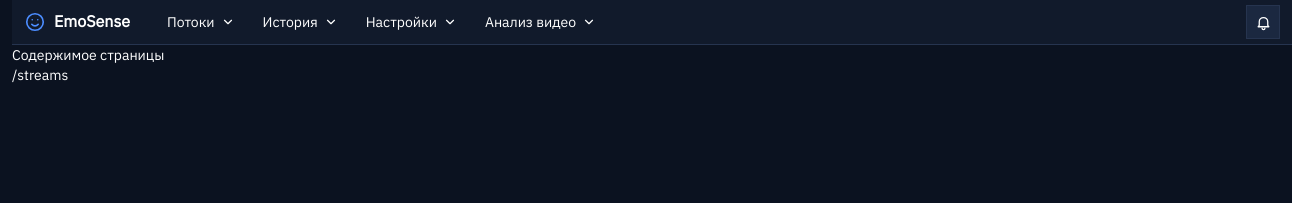
Test: Toolbar menus › opens a menu on click and closes it on a second click
Click the button "Потоки". click: click(201, 22)
box: [154,4,248,40]
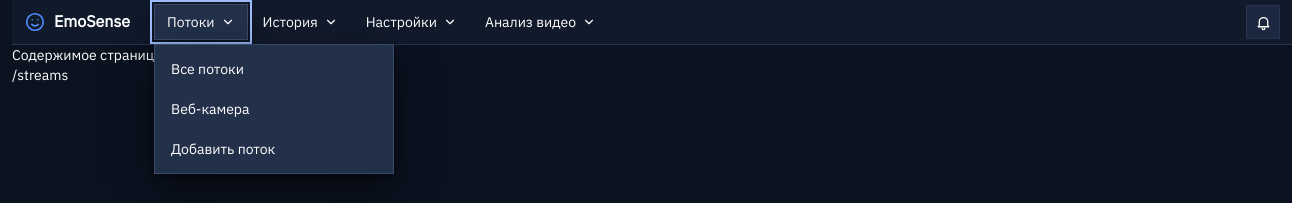
expect the button "Потоки" is expanded: met
expect the menu items read "Все потоки", "Веб-камера", "Добавить поток", in this order: met, box [159,49,389,89]; [159,89,389,129]; [159,129,389,169]
Click the button "Потоки". click: click(201, 22)
box: [154,4,248,40]
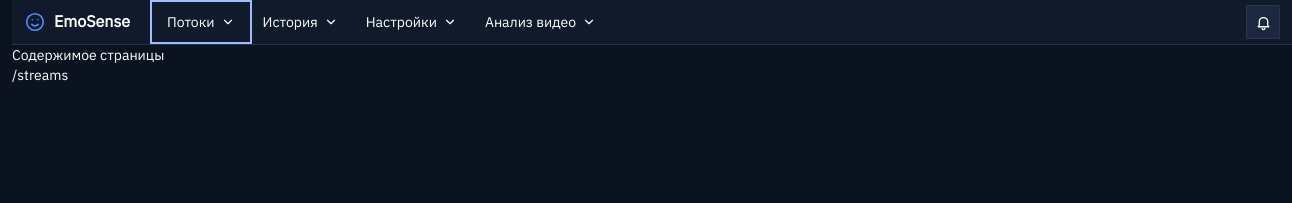
expect the menu is gone: met
expect the button "Потоки" is collapsed: met, box [154,4,248,40]
